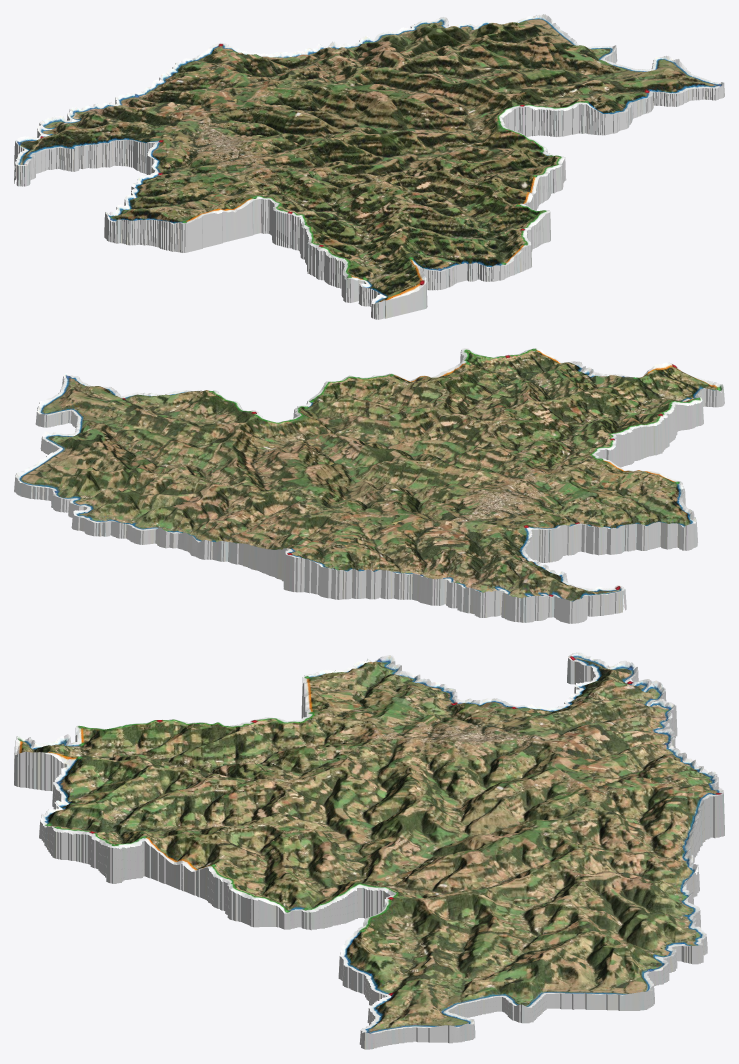
The picture shows the model from 3 angles, top to bottom: view 1: azimuth 30°, elevation 25°; view 2: azimuth 150°, elevation 25°; view 3: azimuth 270°, elevation 25°; orthographic projection. The views are drawn at different scales.
Size of the model in its own units: 0.9999 by 0.0539 by 0.807.
Materials: 1 (1 with a texture image).
